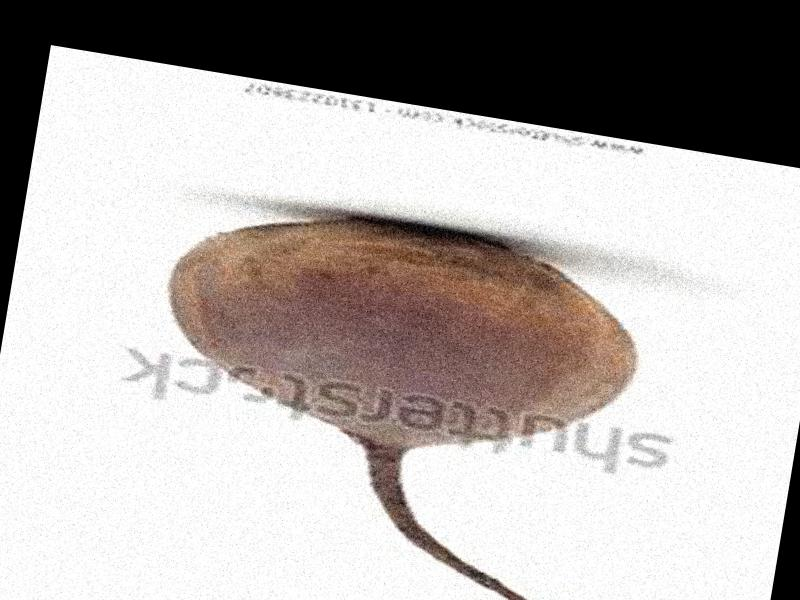Beet: (116, 184, 664, 600)
